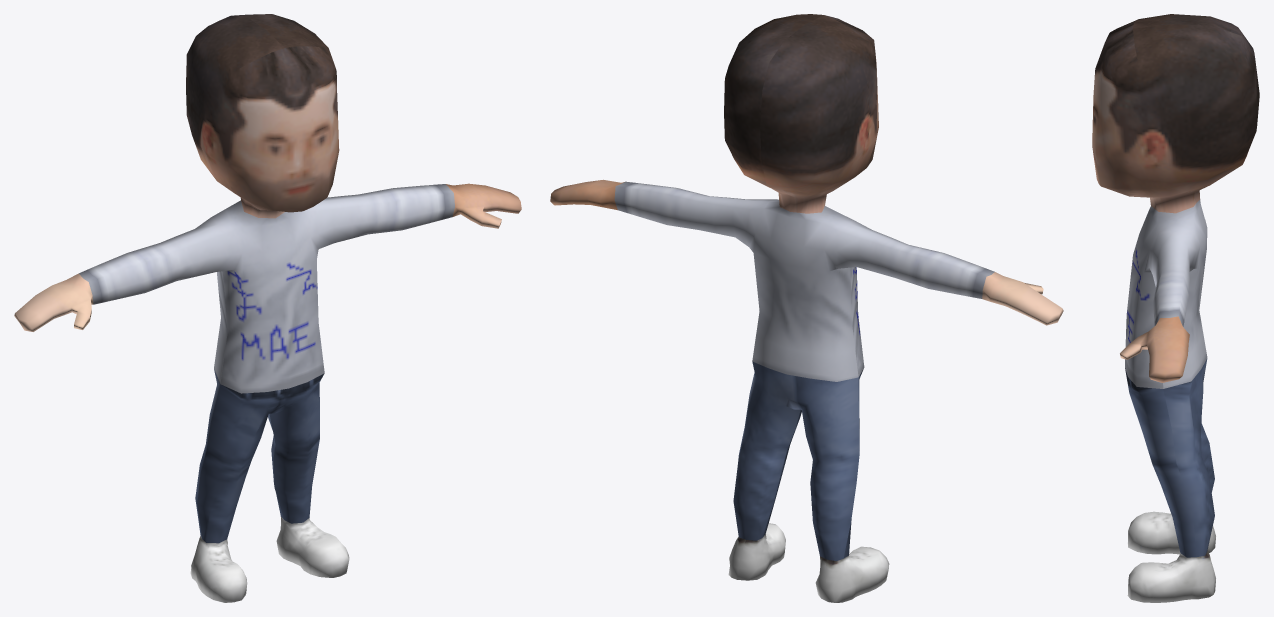
The model's file is oji.fbx.
3 views of the same model, side by side, from view 1: azimuth 30°, elevation 25°; view 2: azimuth 150°, elevation 25°; view 3: azimuth 270°, elevation 25° (orthographic).
Parts seen in each view (by area): view 1: characterMedium; view 2: characterMedium; view 3: characterMedium.
Part boxes in pixels (x1,y1,x2,y2): characterMedium: (14, 14, 521, 602); characterMedium: (550, 14, 1063, 602); characterMedium: (1092, 14, 1259, 602).
Bounding box in the file's own units: 0.0362 × 0.0376 × 0.0105.
1 material, 1 textured.
